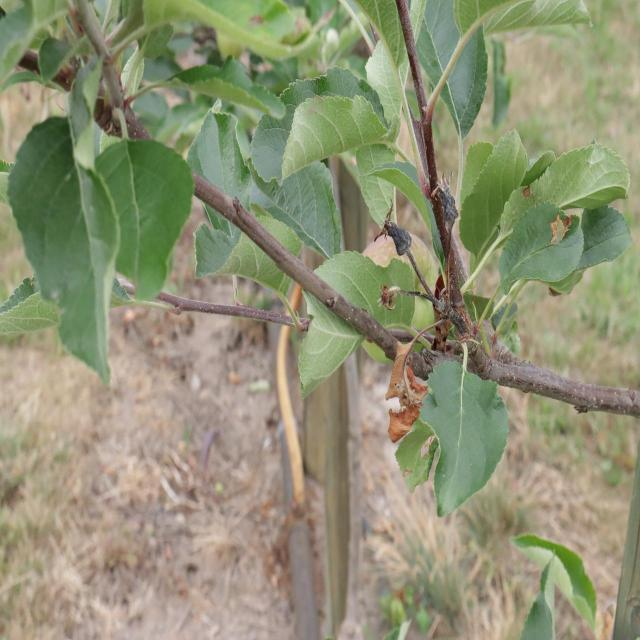-FireBlight-: (379, 334, 429, 442)
